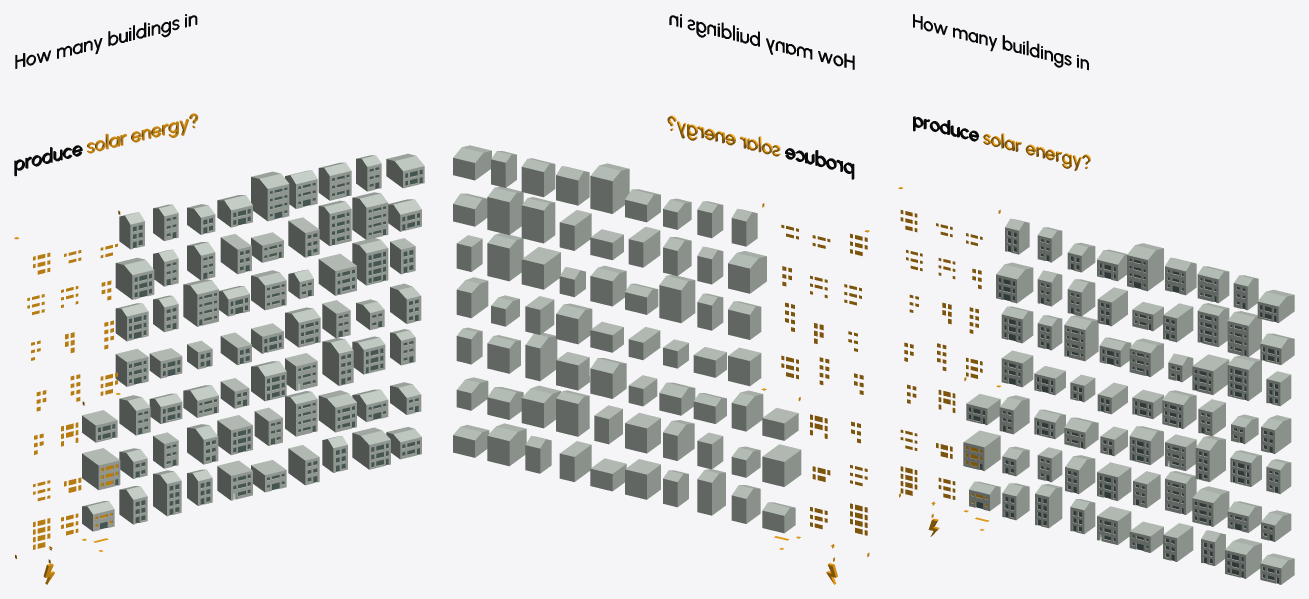
File: Sahne1.gltf
3 views of the same model, side by side, from view 1: azimuth 30°, elevation 25°; view 2: azimuth 150°, elevation 25°; view 3: azimuth 330°, elevation 25° (orthographic). The views are drawn at different scales.
Parts seen in each view (by area): view 1: Building_049.006, Building_071.006, Building_037.006, Building_072.006, Building_067.006, Building_068.006, Building_022.006, Building_076.006, Building_061.006, Building_065.006, Text.015, Building_020 (+57 smaller); view 2: Building_049.006, Building_037.006, Building_072.006, Building_071.006, Building_064.006, Building_076.006, Building_022.006, Building_061.006, Building_020, Building_065.006, Building_067.006, Building_068.006 (+57 smaller); view 3: Building_049.006, Building_071.006, Building_037.006, Building_072.006, Text.015, Building_068.006, Building_067.006, Building_022.006, Building_020, Building_064.006, Building_076.006, Building_061.006 (+57 smaller).
Boxes of the visible parts, <box> form: Building_049.006: <box>251,171,289,221</box>; Building_071.006: <box>352,192,388,239</box>; Building_037.006: <box>183,279,218,326</box>; Building_072.006: <box>352,238,388,285</box>; Building_067.006: <box>322,338,353,385</box>; Building_068.006: <box>318,390,356,432</box>; Building_022.006: <box>115,257,154,299</box>; Building_076.006: <box>352,427,390,469</box>; Building_061.006: <box>285,391,317,436</box>; Building_065.006: <box>318,253,356,295</box>; Text.015: <box>15,14,197,68</box>; Building_020: <box>82,448,120,490</box>; Building_049.006: <box>590,163,629,213</box>; Building_037.006: <box>659,275,695,323</box>; Building_072.006: <box>487,233,523,281</box>; Building_071.006: <box>487,186,523,234</box>; Building_064.006: <box>521,197,555,243</box>; Building_076.006: <box>487,423,526,466</box>; Building_022.006: <box>728,251,766,293</box>; Building_061.006: <box>556,390,589,436</box>; Building_020: <box>762,444,801,486</box>; Building_065.006: <box>521,247,560,289</box>; Building_067.006: <box>525,332,557,381</box>; Building_068.006: <box>521,385,560,428</box>; Building_049.006: <box>1127,243,1163,291</box>; Building_071.006: <box>1227,311,1261,356</box>; Building_037.006: <box>1064,315,1098,361</box>; Building_072.006: <box>1227,355,1261,400</box>; Text.015: <box>913,14,1088,70</box>; Building_068.006: <box>1192,486,1229,526</box>; Building_067.006: <box>1195,436,1225,481</box>; Building_022.006: <box>996,262,1033,303</box>; Building_020: <box>963,430,1000,471</box>; Building_064.006: <box>1197,303,1229,347</box>; Building_076.006: <box>1225,538,1261,578</box>; Building_061.006: <box>1165,471,1196,514</box>.
Size of the model in its own units: 0.9024 by 1.14 by 0.0652.
